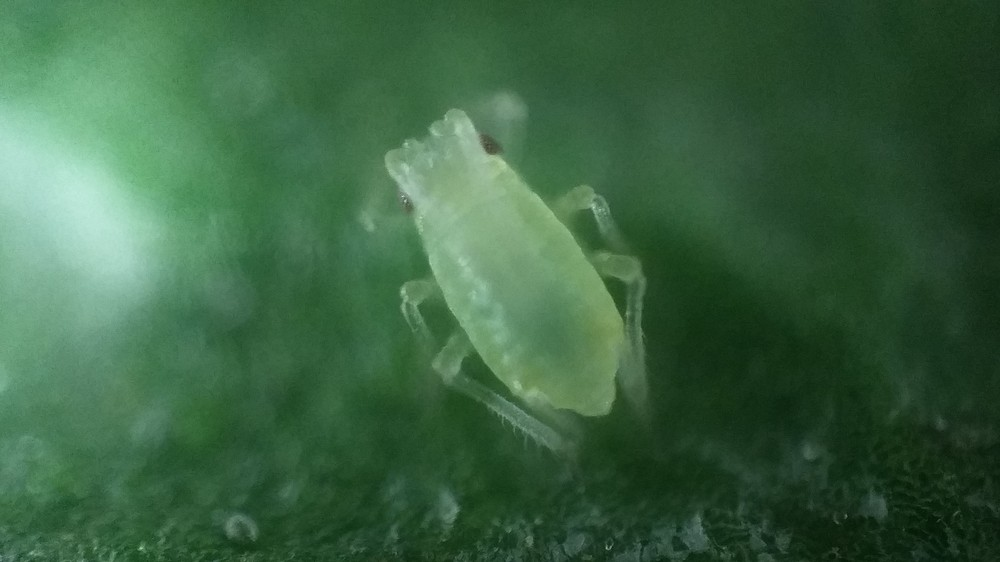Pulgon: (342, 95, 713, 482)
